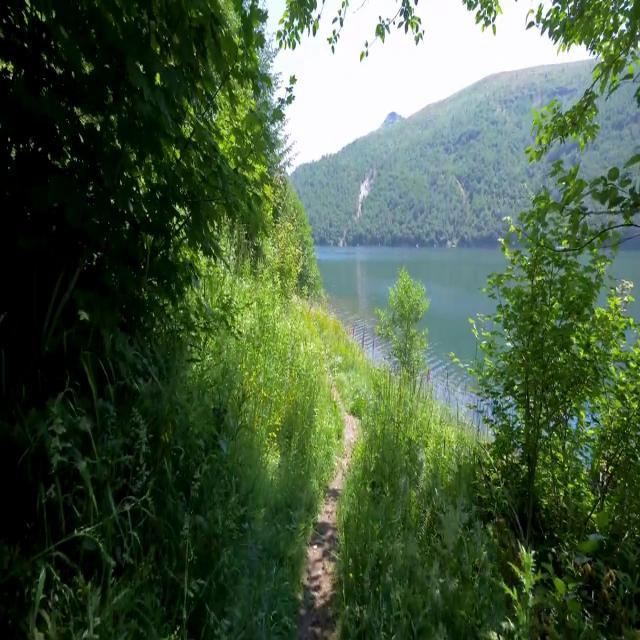Smoke: (352, 166, 374, 224)
